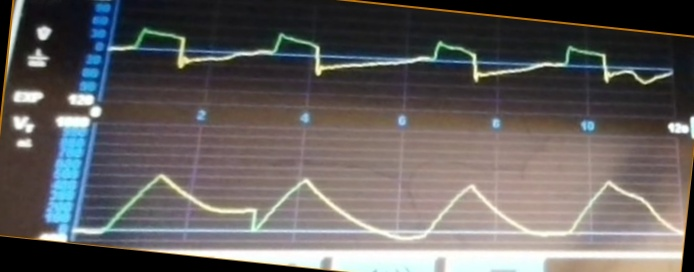Premature_cycling Flow: (109, 24, 673, 99)
Premature_cycling Volume: (82, 170, 679, 240)
